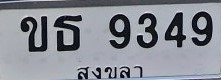txt02: (20, 15, 48, 54)
txt19: (51, 14, 83, 52)
